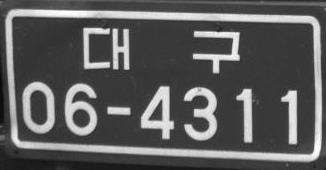0: (20, 80, 56, 133)
1: (230, 87, 264, 145), (275, 89, 307, 145)
3: (183, 85, 218, 141)
4: (140, 85, 174, 140)
6: (64, 81, 98, 136)
대구_D: (81, 25, 239, 74)
